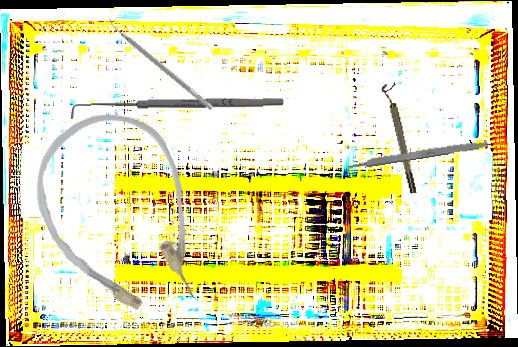Cannula: (13, 93, 229, 343)
Fixation Ring: (380, 81, 419, 196)
Hook Surgical: (68, 95, 286, 119)
Scalpel Handle: (345, 137, 493, 171)
Spatula Surgical: (104, 16, 218, 111)
